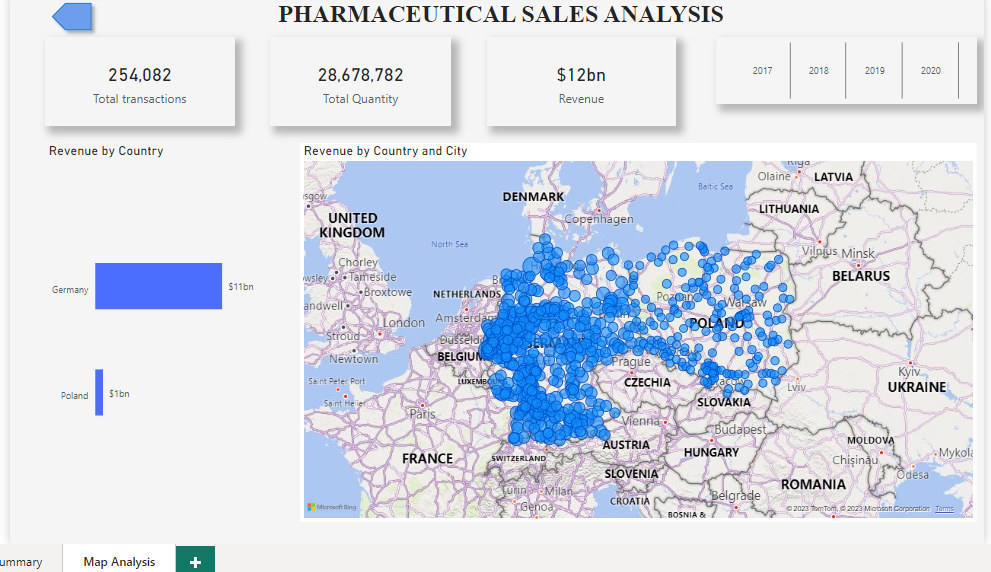

Layout of this report page (visuals, bound fields, positions):
{"tool":"powerbi","page":{"name":"Map Analysis","canvas":[1280,720],"ordinal":1},"visuals":[{"type":"card","fields":{"Values":["PharmData.Total transactions"]},"box":[45.4,53.7,249.1,117],"z":0},{"type":"card","fields":{"Values":["PharmData.Total Quantity"]},"box":[341.3,53.7,238.1,117],"z":1000},{"type":"card","fields":{"Values":["PharmData.Revenue"]},"box":[626.2,53.7,247.7,117],"z":2000},{"type":"slicer","fields":{"Values":["Calendar.Year"]},"box":[927.7,53.7,342.7,88.1],"z":3000},{"type":"textbox","box":[336,0,618.2,77.3],"z":4000},{"type":"map","fields":{"Category":["DimLocation.Country","DimLocation.City"],"Size":["PharmData.Revenue"]},"box":[381.2,192.7,889.1,498.2],"z":5000},{"type":"barChart","fields":{"Category":["DimLocation.Country"],"Y":["PharmData.Revenue"]},"box":[45.4,192.7,295.9,498.2],"z":6000},{"type":"shape","box":[45.4,0,70.2,53.7],"z":7000}]}

Visuals, with their boxes on the page's 1280x720 design canvas (x1, y1, x2, y2). These are canvas units, not pixel positions in the 991x572 screenshot, which may show the page scaled, cropped or inside an application window:
card - PharmData.Total transactions: region(45, 54, 294, 171)
card - PharmData.Total Quantity: region(341, 54, 579, 171)
card - PharmData.Revenue: region(626, 54, 874, 171)
slicer - Calendar.Year: region(928, 54, 1270, 142)
textbox: region(336, 0, 954, 77)
map - DimLocation.Country x DimLocation.City: region(381, 193, 1270, 691)
barChart - DimLocation.Country x PharmData.Revenue: region(45, 193, 341, 691)
shape: region(45, 0, 116, 54)
